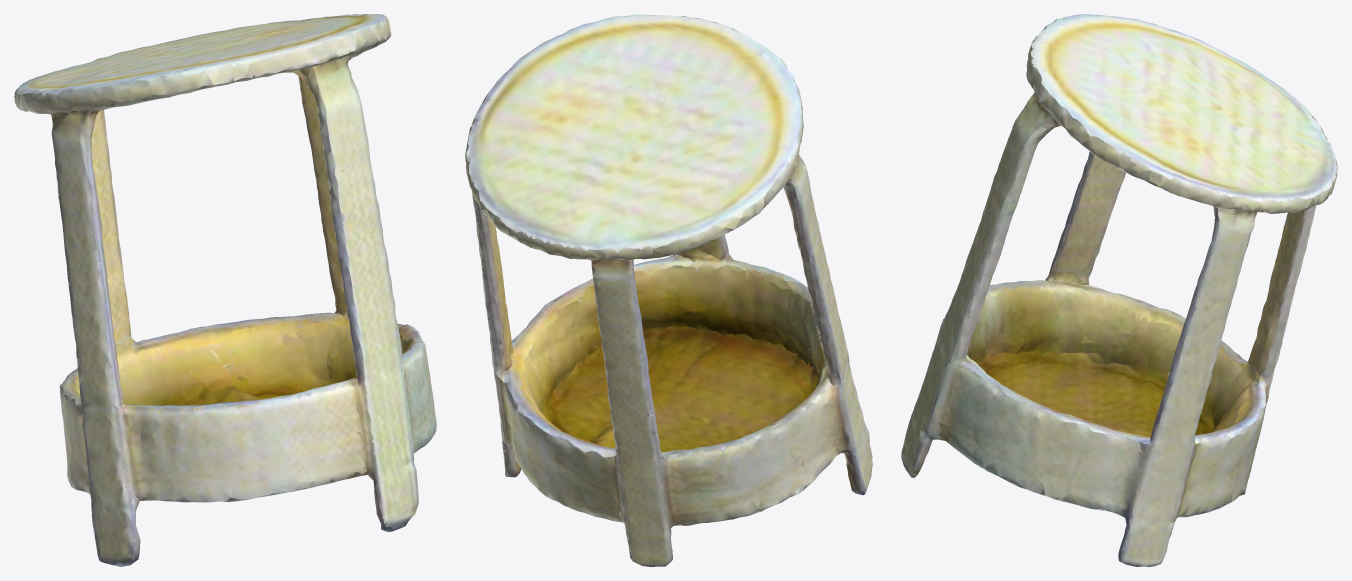
3 renders of one model, left to right at view 1: azimuth 30°, elevation 25°; view 2: azimuth 150°, elevation 25°; view 3: azimuth 270°, elevation 25°, orthographic. The views are drawn at different scales.
Parts seen in each view (by area): view 1: world; view 2: world; view 3: world.
Part boxes in pixels (x1,y1,x2,y2): world: (14,14,436,566); world: (465,14,872,566); world: (901,14,1337,566).
Size of the model in its own units: 0.727 by 1.01 by 0.8655.
Materials: 1 (1 with a texture image).
